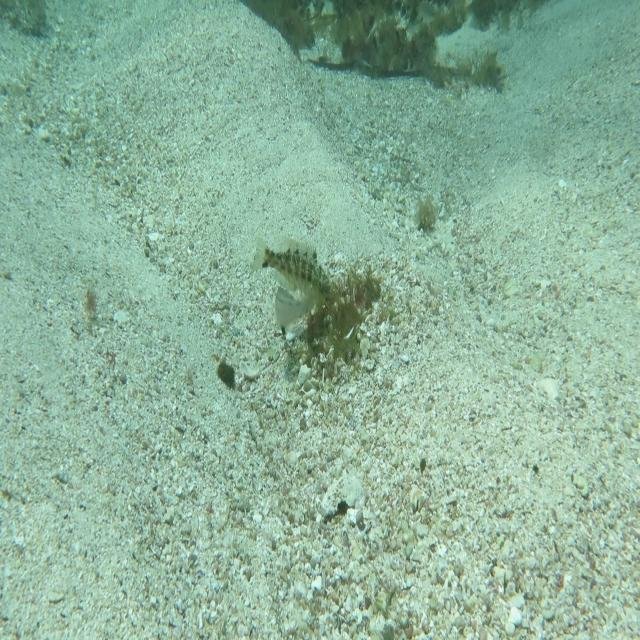SPA: (254, 226, 339, 310)
female: (270, 279, 310, 344)
nest: (278, 262, 387, 394)
vegetation: (245, 0, 524, 36), (0, 0, 55, 42), (214, 342, 240, 398), (414, 188, 441, 236), (84, 273, 100, 326)
